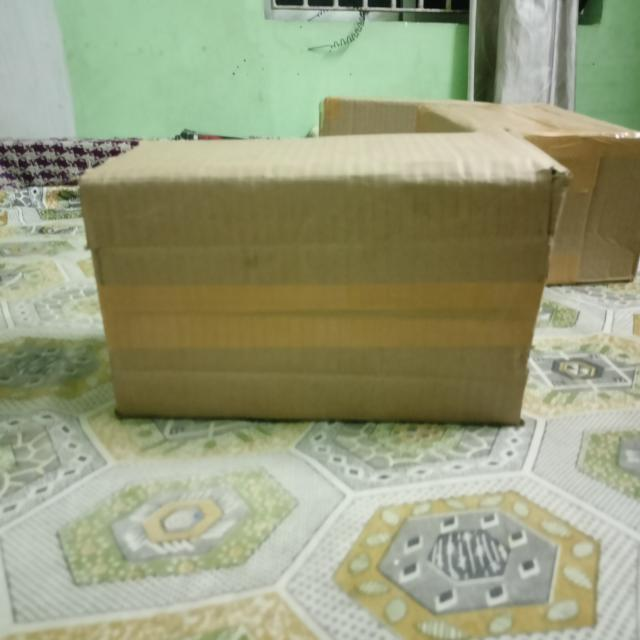box: (78, 170, 561, 425)
